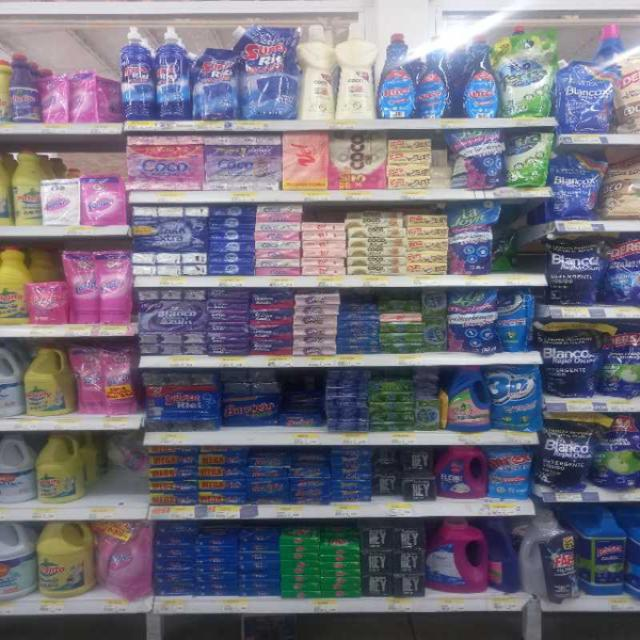Super_Riel: (154, 28, 193, 122), (122, 29, 156, 120)
